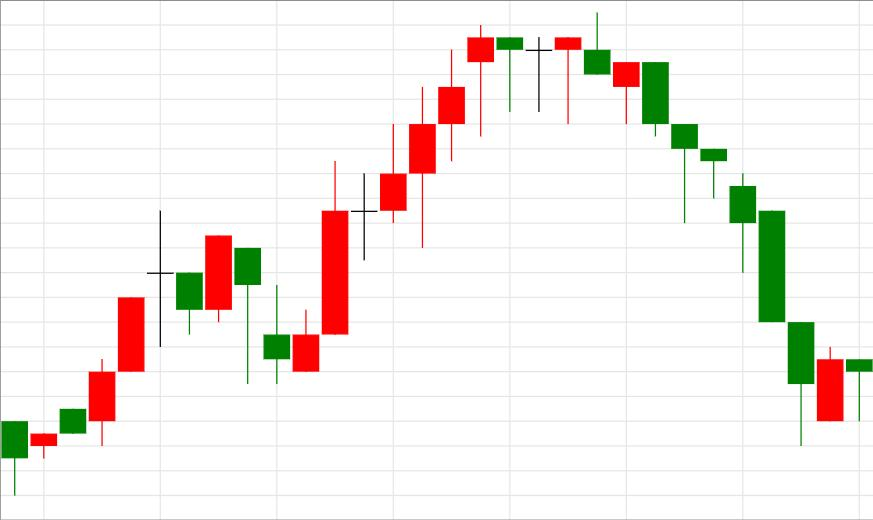evening_star_fall: (2, 210, 203, 496)
